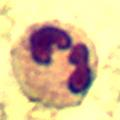eosi: (8, 19, 98, 108)
